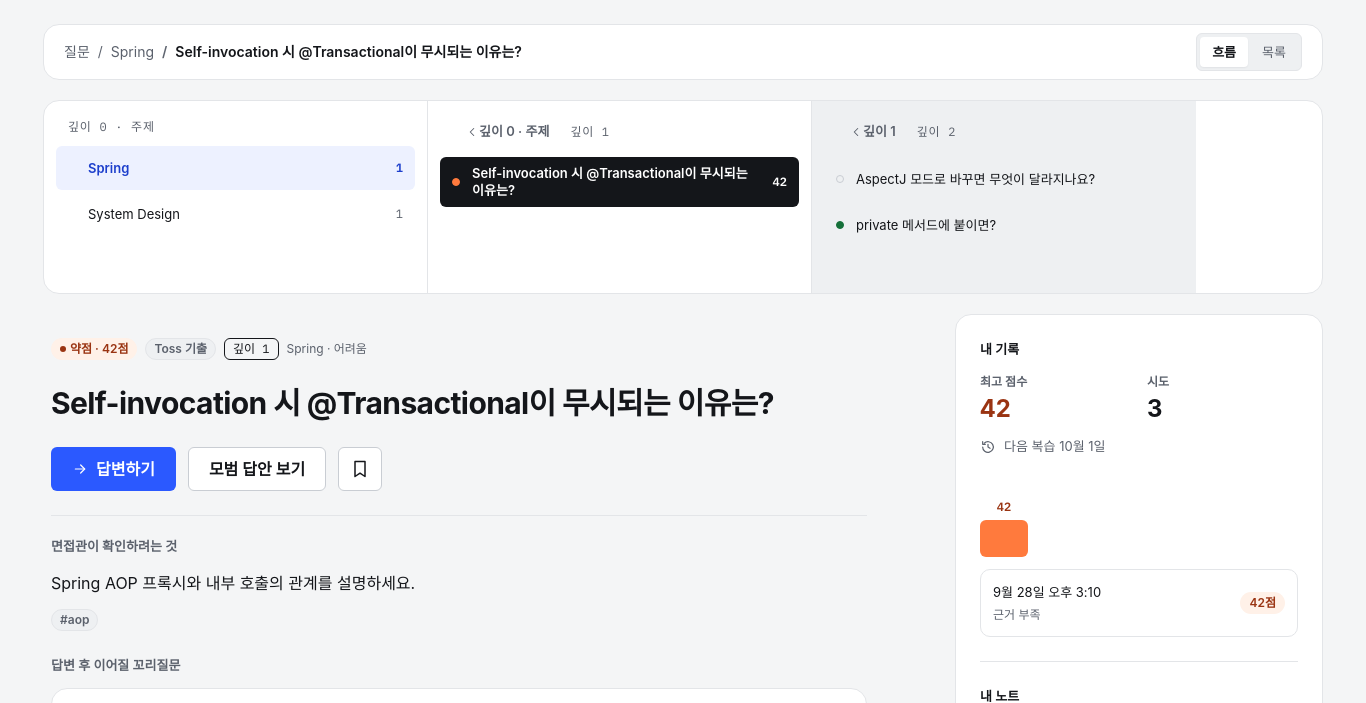
QuestionWorkspacePage › keeps the path when a follow-up is picked and opens its follow-ups in the next column
Step 1. Click the option "AspectJ 모드로 바꾸면 무엇이 달라지나요?" → {"x": 966, "y": 178}, box [836, 170, 1095, 186]
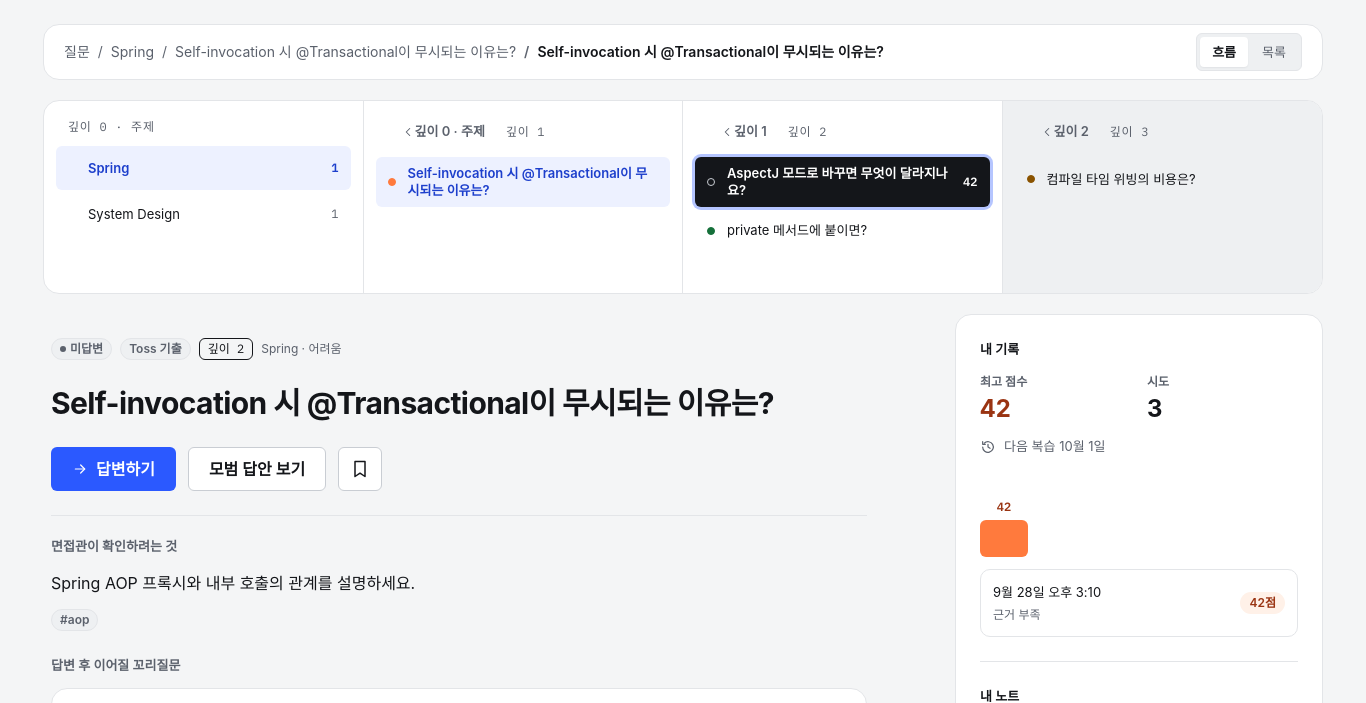
Result: the option "Self-invocation 시 @Transactional이 무시되는 이유는?" is shown at [376, 157, 670, 207]
Result: the option "컴파일 타임 위빙의 비용은?" is shown at [1026, 170, 1196, 186]
Result: the text "깊이 2" next to "Spring · 어려움" is shown at [208, 341, 244, 356]
